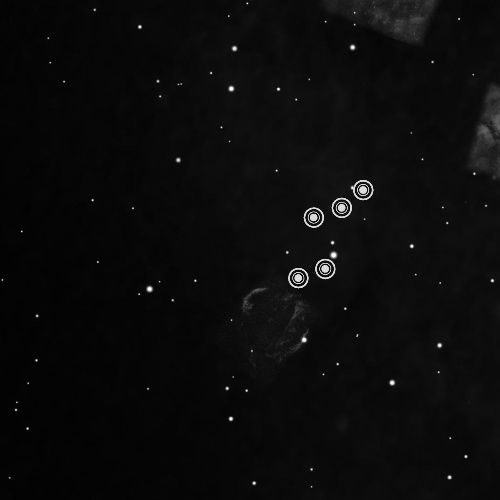lyra: (281, 166, 383, 294)
